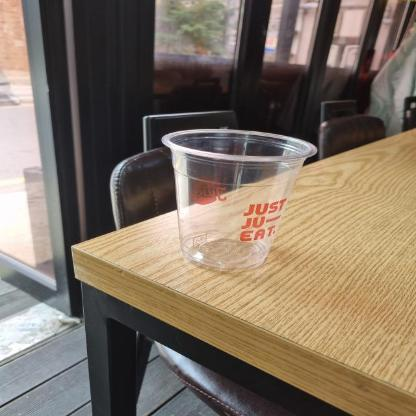Plastic Cup: (157, 125, 320, 279)
